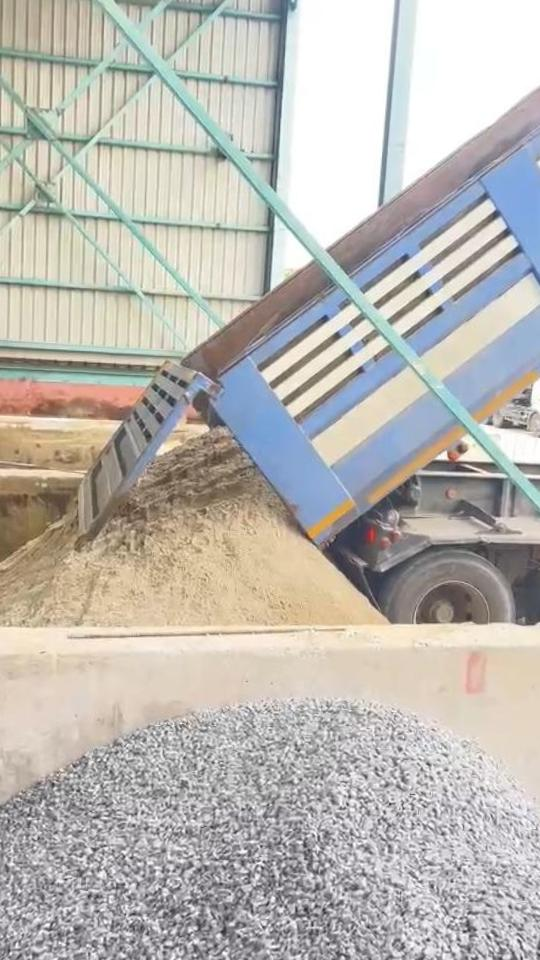gravel: (0, 702, 540, 960)
sand: (0, 429, 386, 626)
